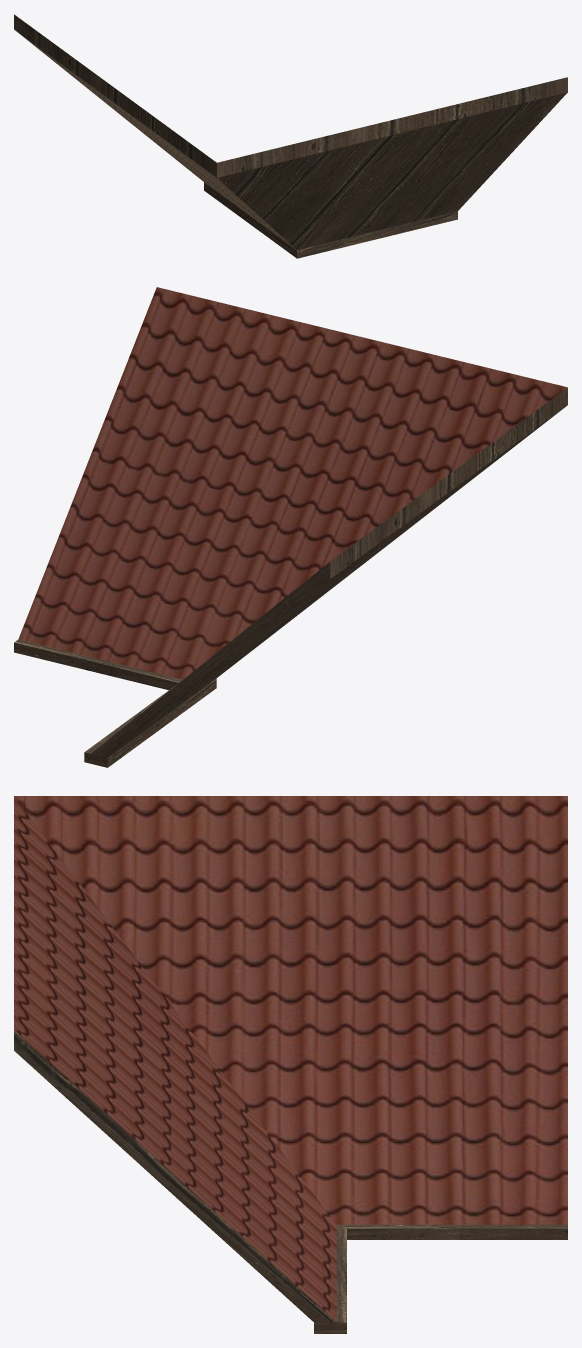
The model's file is ARC1010402.fbx.
The picture shows the model from 3 angles, top to bottom: view 1: azimuth 30°, elevation 25°; view 2: azimuth 150°, elevation 25°; view 3: azimuth 270°, elevation 25°; orthographic projection. The views are drawn at different scales.
Visible parts, largest first — view 1: smARC1010402; view 2: smARC1010402; view 3: smARC1010402.
Boxes of the visible parts, box(x1,y1,x2,y2) form: smARC1010402: box(14, 14, 567, 258); smARC1010402: box(14, 287, 567, 767); smARC1010402: box(14, 796, 567, 1333).
Bounding box in the file's own units: 536 × 325 × 537.
Materials: 1 (1 with a texture image).
